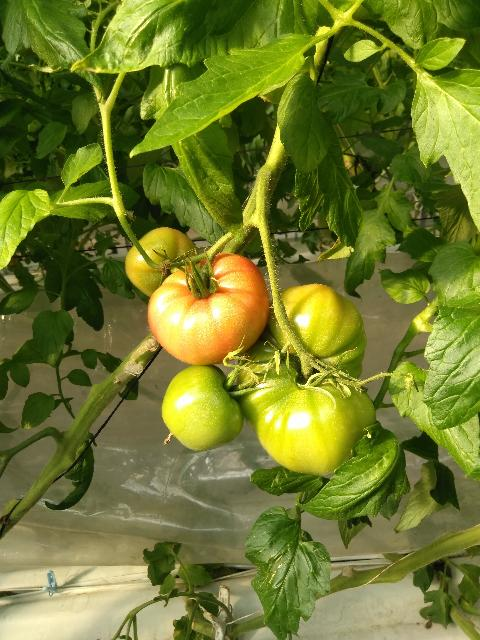b_green: (237, 283, 377, 477), (161, 364, 244, 452), (125, 228, 200, 297)
b_half_ripened: (147, 252, 270, 365)
